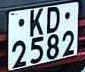2: (11, 40, 27, 68), (60, 31, 76, 57)
5: (27, 37, 45, 65)
8: (45, 34, 61, 61)
D: (45, 6, 62, 34)
K: (27, 10, 46, 38)
N: (27, 10, 47, 36)
